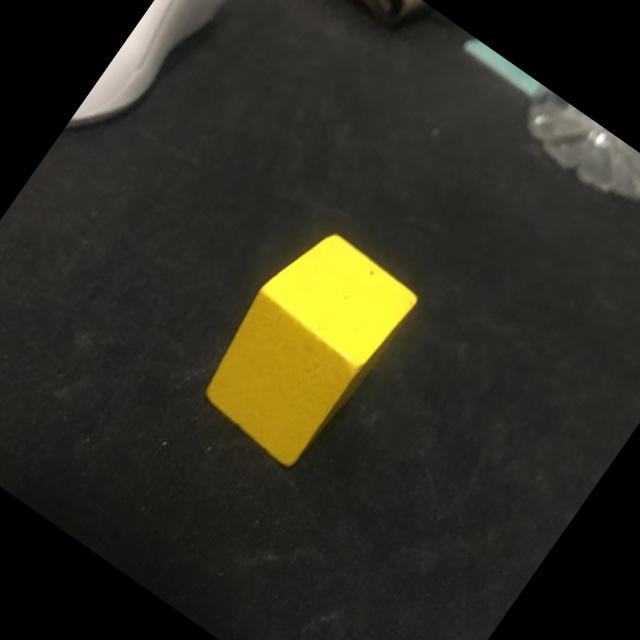yellow: (185, 215, 422, 472)
